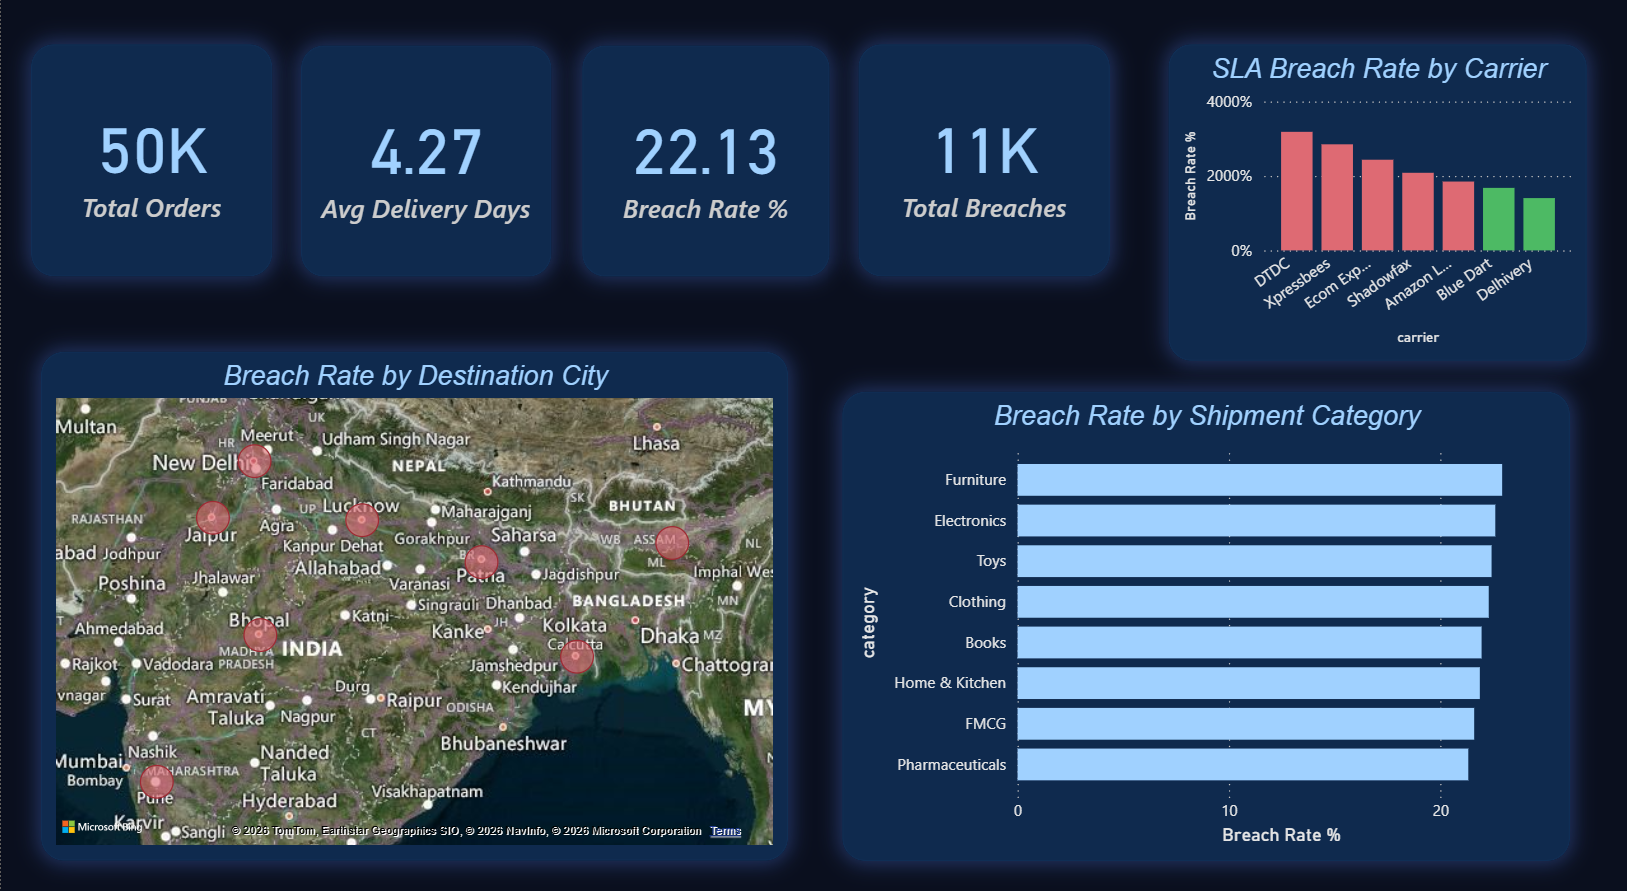

What the dashboard file says about the page in this screenshot:
{"tool":"powerbi","page":{"name":"Executive Overview","canvas":[1280,720],"ordinal":0},"visuals":[{"type":"card","fields":{"Values":["logistics_data.Total Orders"]},"box":[23.3,52.3,189.5,182.6],"z":0},{"type":"card","fields":{"Values":["logistics_data.Total Breaches"]},"box":[674.4,52.3,197.7,182.6],"z":1000},{"type":"card","fields":{"Values":["logistics_data.Breach Rate %"]},"box":[457,53.5,194.2,181.4],"z":2000},{"type":"card","fields":{"Values":["logistics_data.Avg Delivery Days"]},"box":[236,53.5,196.5,181.4],"z":3000},{"type":"columnChart","title":"SLA Breach Rate by Carrier","fields":{"Category":["logistics_data.carrier"],"Y":["logistics_data.Breach Rate %"]},"box":[917.4,52.3,329.1,248.8],"z":4000},{"type":"map","title":"Breach Rate by Destination City","fields":{"Category":["breach_by_carrier_city.destination_city"],"Size":["logistics_data.Breach Rate %"]},"box":[31.4,294.2,587.2,400],"z":5000},{"type":"clusteredBarChart","title":"Breach Rate by Shipment Category","fields":{"Category":["breach_by_category.category"],"Y":["logistics_data.Breach Rate %"]},"box":[661.6,325.6,572.1,368.6],"z":6000}]}

Visuals, with their boxes in screenshot pixels (x1, y1, x2, y2), scaled from the page's 1280x720 canvas onto the 1627x891 screenshot:
card - logistics_data.Total Orders: {"x1": 30, "y1": 65, "x2": 270, "y2": 291}
card - logistics_data.Total Breaches: {"x1": 857, "y1": 65, "x2": 1109, "y2": 291}
card - logistics_data.Breach Rate %: {"x1": 581, "y1": 66, "x2": 828, "y2": 291}
card - logistics_data.Avg Delivery Days: {"x1": 300, "y1": 66, "x2": 550, "y2": 291}
"SLA Breach Rate by Carrier" columnChart: {"x1": 1166, "y1": 65, "x2": 1584, "y2": 373}
"Breach Rate by Destination City" map: {"x1": 40, "y1": 364, "x2": 786, "y2": 859}
"Breach Rate by Shipment Category" clusteredBarChart: {"x1": 841, "y1": 403, "x2": 1568, "y2": 859}
